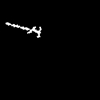double_crochet: (6, 23, 40, 36)
